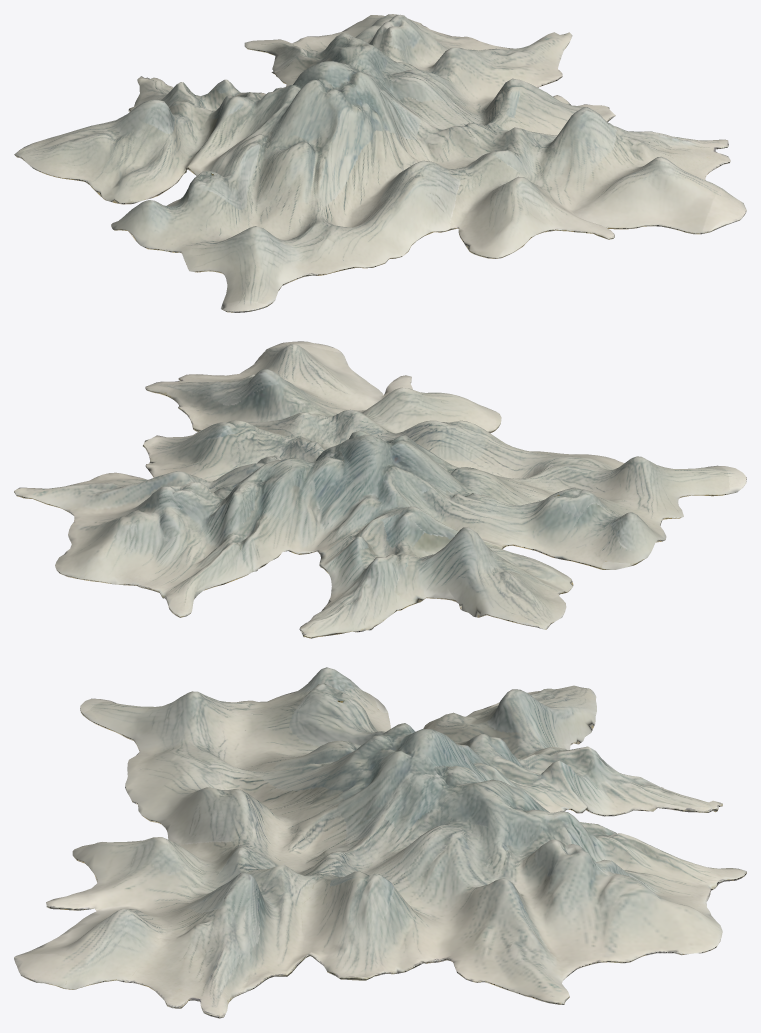
Rendered from ScrollFarRange.fbx.
3 renders of one model, top to bottom at view 1: azimuth 30°, elevation 25°; view 2: azimuth 150°, elevation 25°; view 3: azimuth 270°, elevation 25°, orthographic. The views are drawn at different scales.
Parts seen in each view (by area): view 1: ScrollFarRange; view 2: ScrollFarRange; view 3: ScrollFarRange.
Part boxes in pixels (x1,y1,x2,y2): ScrollFarRange: (14, 14, 746, 312); ScrollFarRange: (14, 341, 746, 638); ScrollFarRange: (14, 667, 746, 1018).
Size of the model in its own units: 200 by 33.77 by 193.
1 material, 1 textured.
